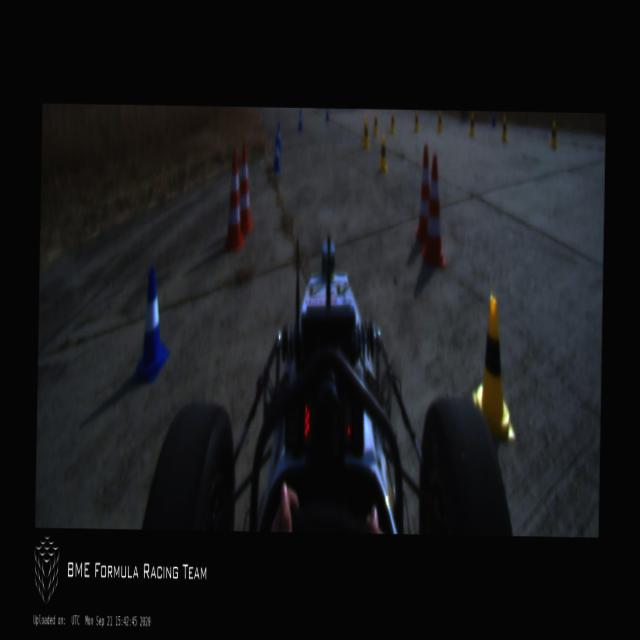blue_cone: (132, 266, 172, 382), (272, 135, 281, 171), (275, 122, 281, 150), (297, 108, 303, 130), (325, 108, 329, 120)
large_orange_cone: (420, 153, 448, 266), (222, 149, 246, 253), (414, 144, 431, 245), (238, 142, 254, 235)
yellow_cone: (470, 294, 518, 441), (378, 135, 387, 172), (550, 118, 557, 150), (362, 114, 369, 142), (362, 121, 368, 149), (469, 110, 475, 138), (502, 115, 508, 143), (390, 110, 396, 135), (372, 112, 378, 136), (437, 110, 443, 132), (414, 109, 419, 131)
